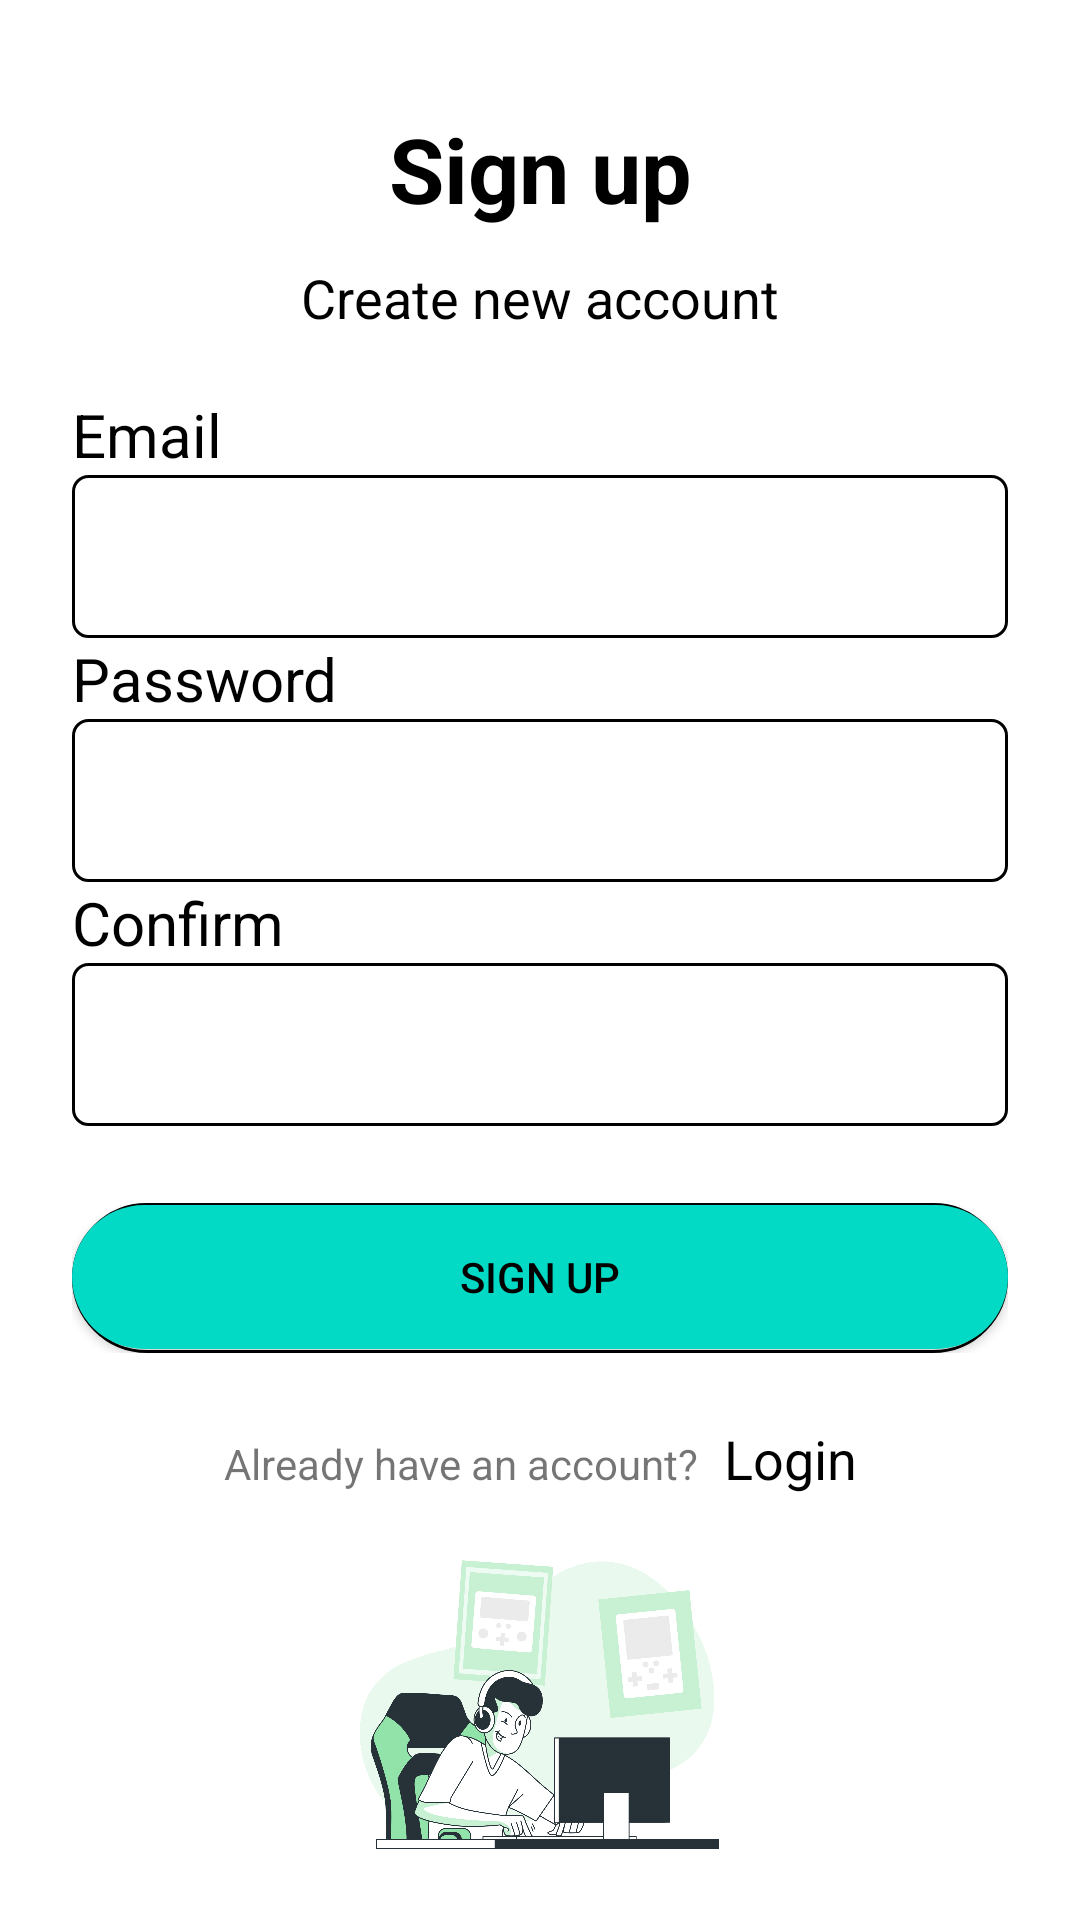

Locate icon controls on the screen. Image size 1080 × 1920, boxes as (x1, y1, x2, y2).
gaming bro: (360, 1560, 719, 1849)
